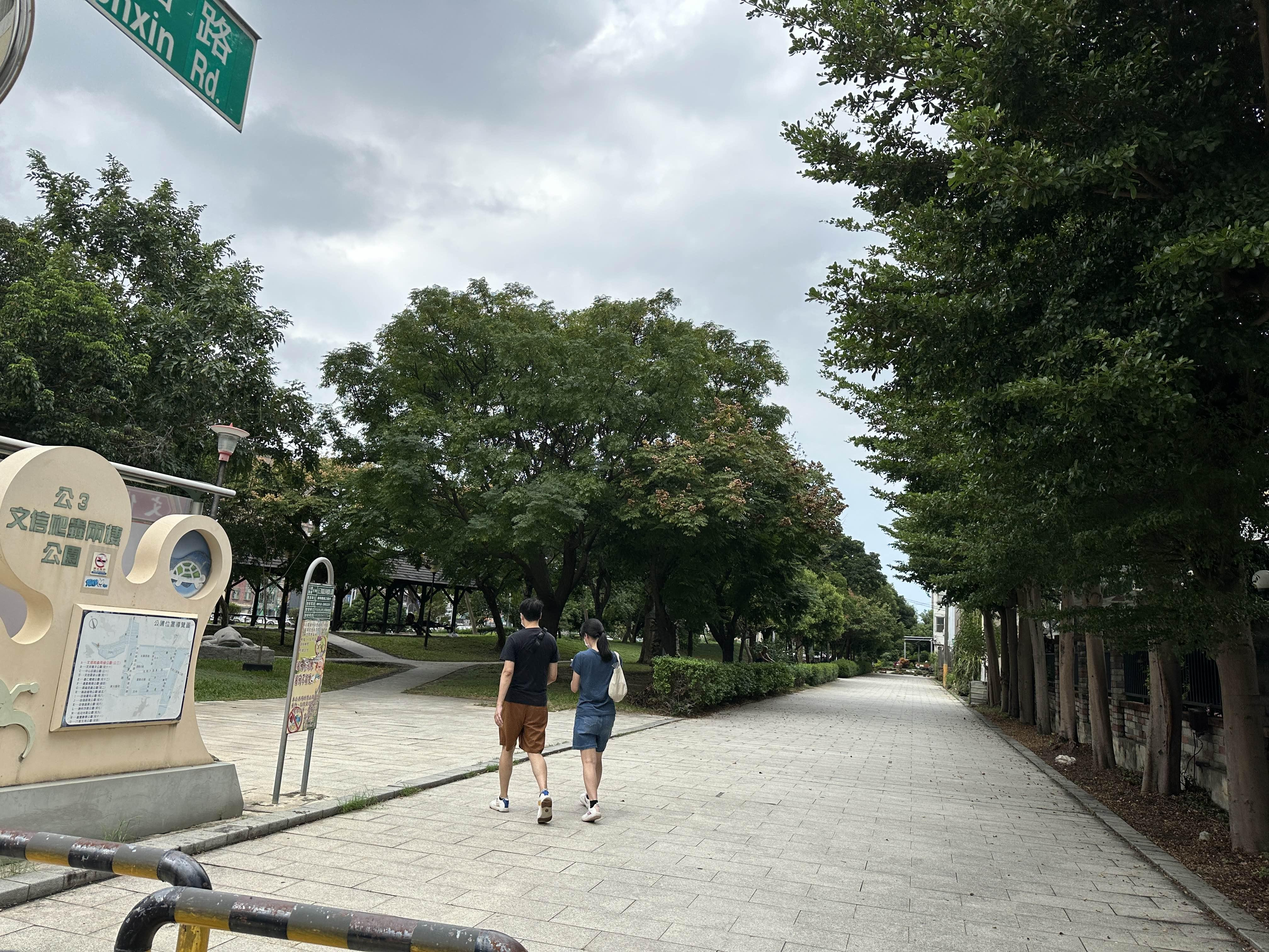NoHelmet: (579, 619, 605, 645), (518, 597, 543, 623)
NoVest: (509, 628, 551, 702), (580, 651, 618, 713)
